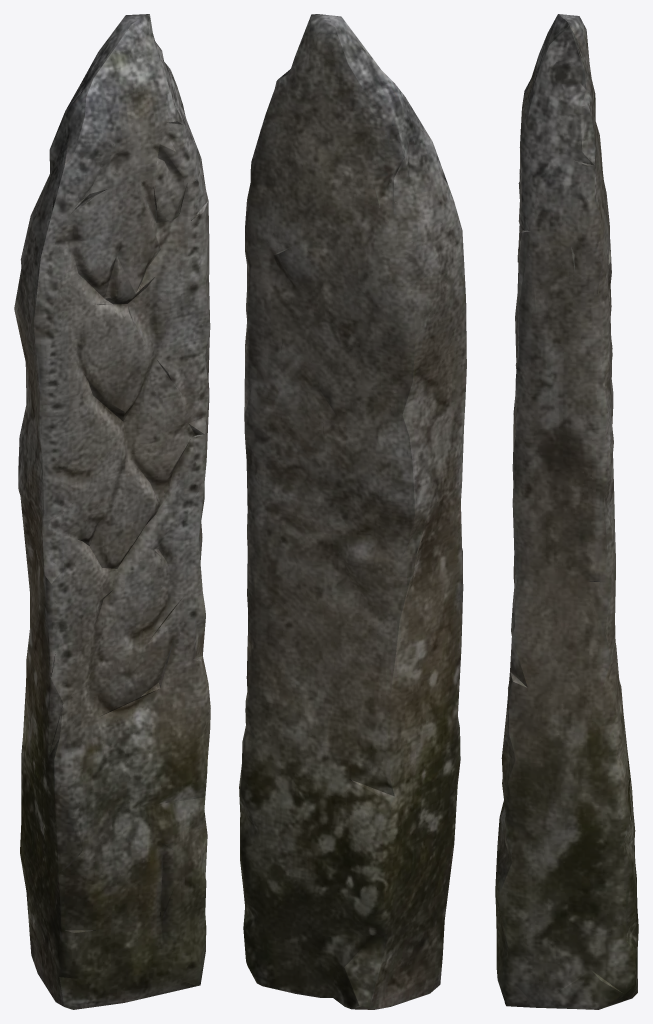
The model's file is stone-c.glb.
The picture shows the model from 3 angles, left to right: view 1: azimuth 30°, elevation 25°; view 2: azimuth 150°, elevation 25°; view 3: azimuth 270°, elevation 25°; orthographic projection.
Parts seen in each view (by area): view 1: stone-c; view 2: stone-c; view 3: stone-c.
Boxes of the visible parts, left/top/right/bottom form: stone-c: left=14, top=14, right=210, bottom=1009; stone-c: left=239, top=14, right=466, bottom=1009; stone-c: left=495, top=14, right=638, bottom=1009.
Bounding box in the file's own units: 0.7161 × 3.49 × 0.4666.
Materials: 1 (1 with a texture image).
